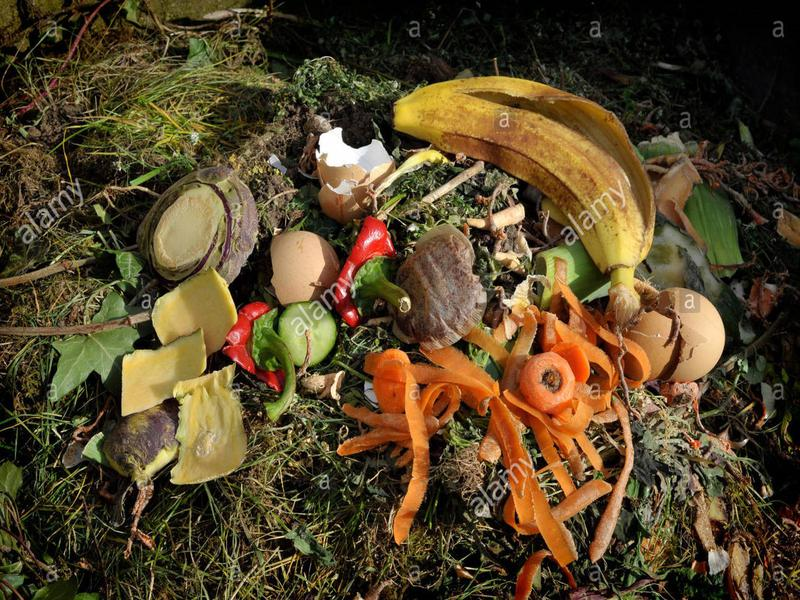vegetation: (108, 66, 730, 600)
